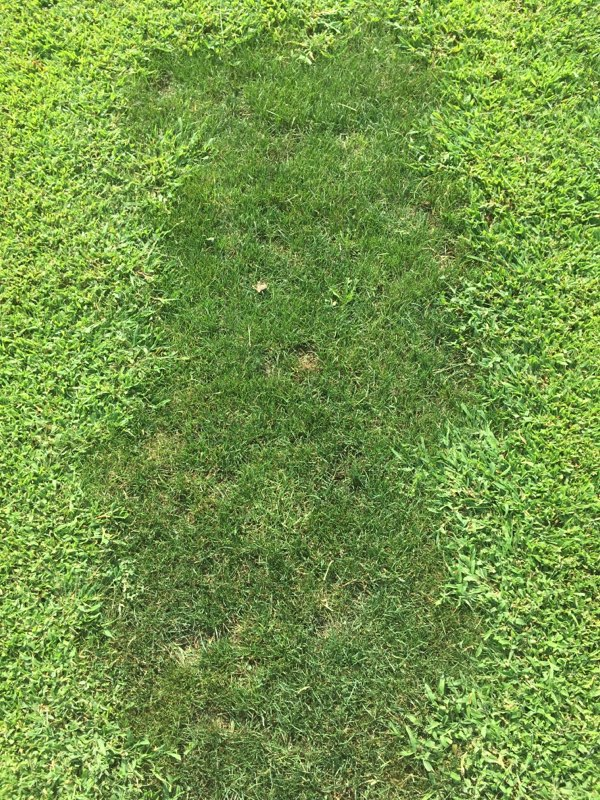crabgrass: (462, 4, 597, 800), (3, 5, 70, 799), (400, 682, 470, 770)
